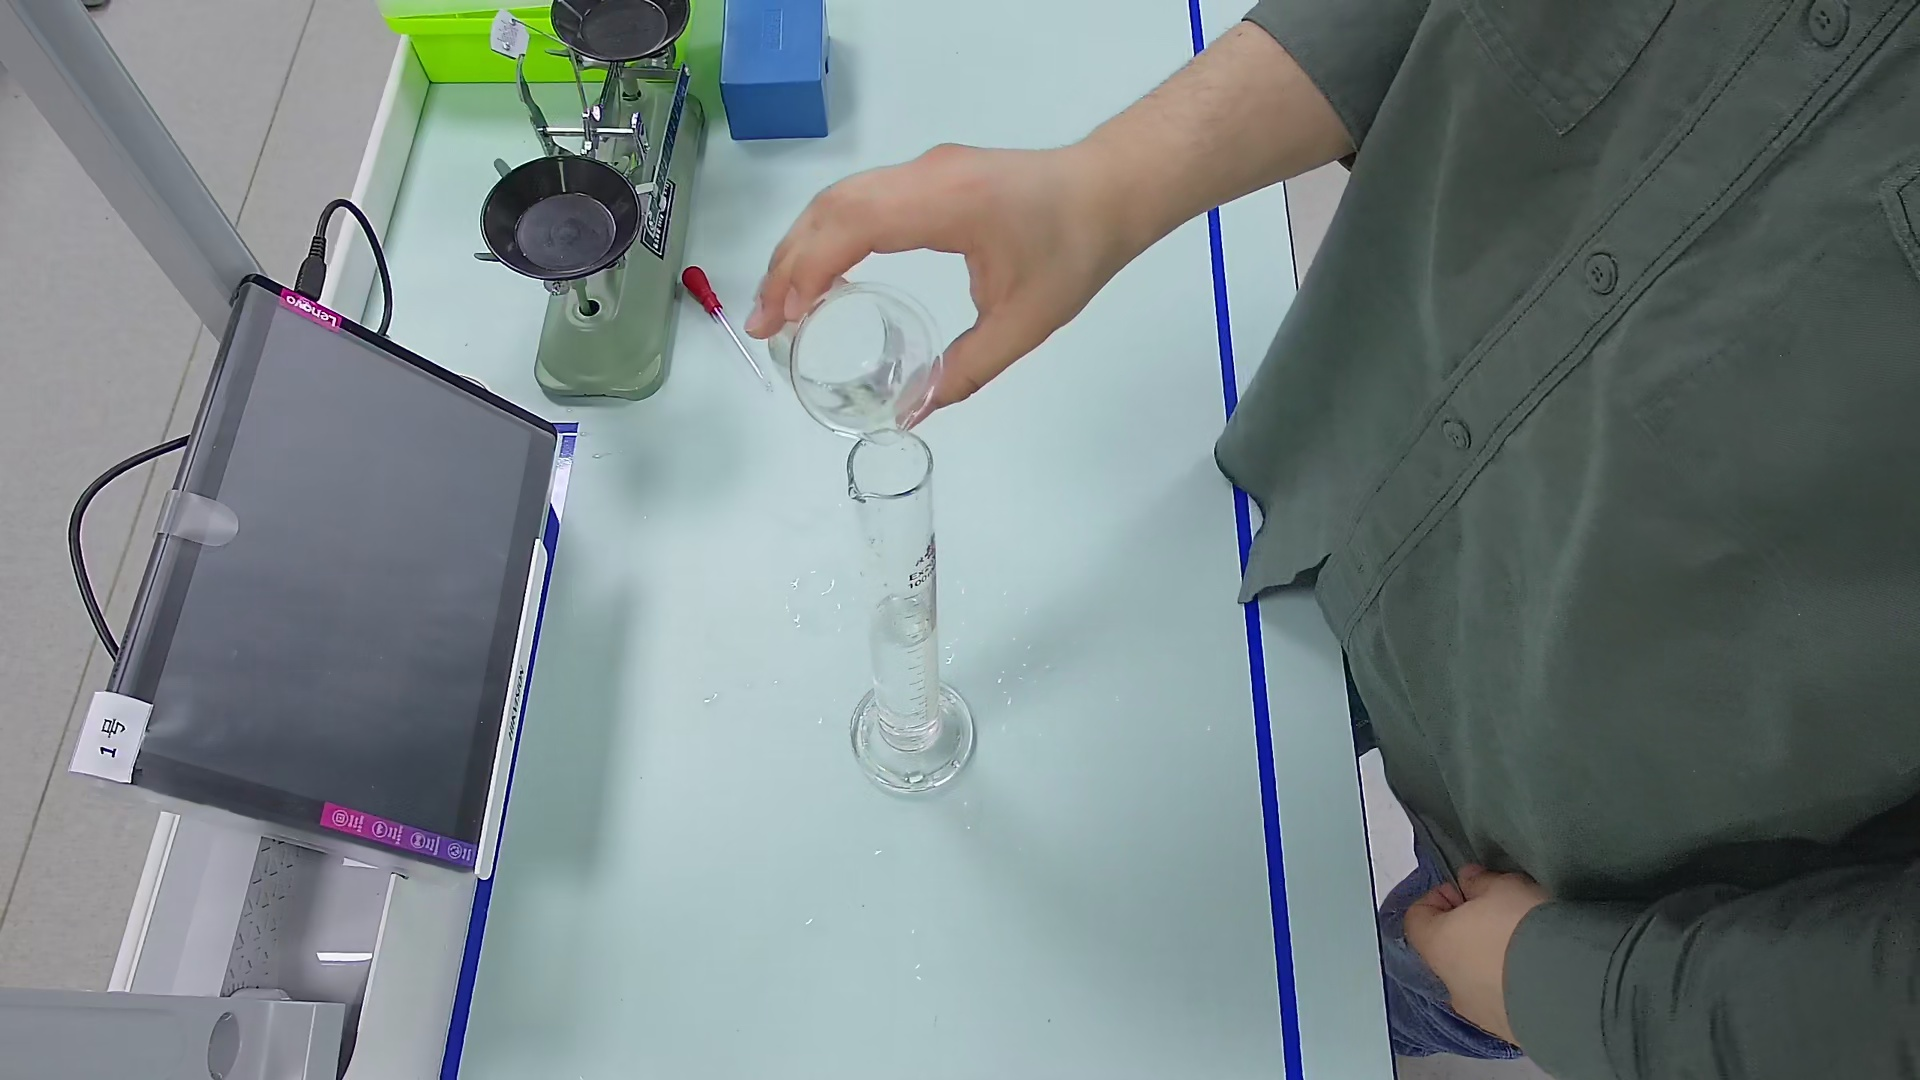ao: (872, 593, 939, 649)
bei: (756, 270, 942, 451)
diguan: (678, 258, 756, 378)
diguantou: (678, 261, 725, 324)
hand: (757, 142, 1051, 396), (1404, 851, 1520, 1033)
liangdi: (849, 680, 978, 800)
liangtong: (841, 426, 978, 796)
tuo: (475, 160, 640, 282), (542, 1, 702, 65)
